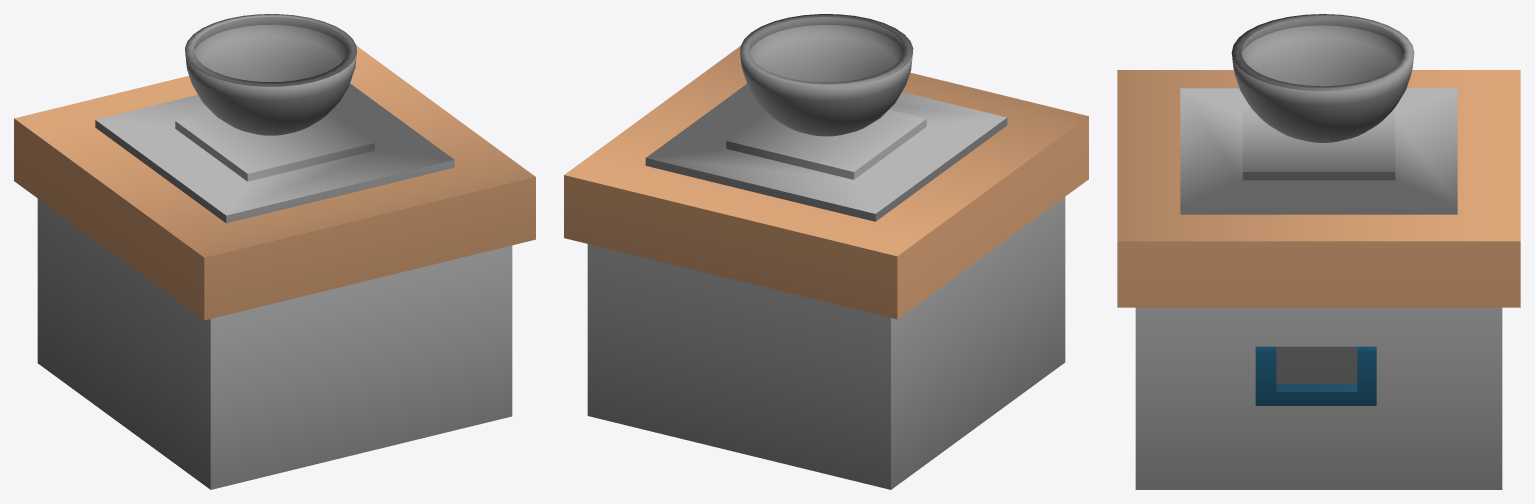
The model's file is Mesa_Pintura.fbx.
3 views of the same model, side by side, from view 1: azimuth 30°, elevation 25°; view 2: azimuth 150°, elevation 25°; view 3: azimuth 270°, elevation 25° (orthographic). The views are drawn at different scales.
Visible parts, largest first — view 1: Mesa_Pintura, cuenco; view 2: Mesa_Pintura, cuenco; view 3: Mesa_Pintura, cuenco.
Part boxes in pixels (x1,y1,x2,y2): Mesa_Pintura: (14, 46, 535, 489); cuenco: (185, 14, 356, 135); Mesa_Pintura: (564, 46, 1088, 489); cuenco: (740, 14, 913, 136); Mesa_Pintura: (1117, 70, 1520, 489); cuenco: (1231, 14, 1414, 142).
Size of the model in its own units: 22.12 by 21.65 by 22.01.
